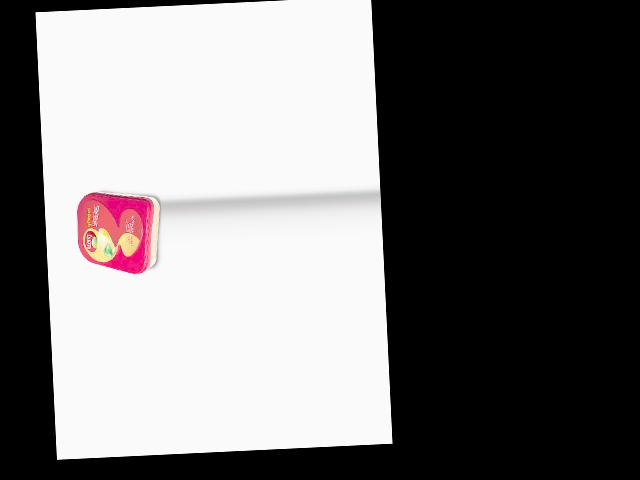cheese: (75, 189, 163, 276)
